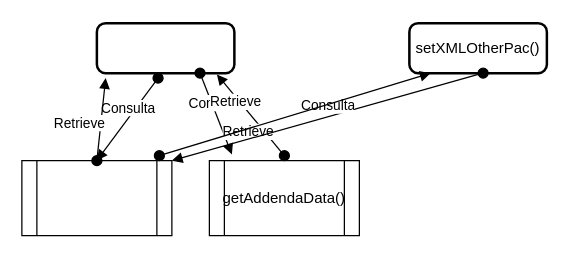
The diagram is 570 pixels wide and 258 high, and some of its shapes have lost their labels. The shapes that lost their labels are listed below. From the top down, each one's centre as x and y in pixels, then its label:
the point at 165,47: setXMLJonima()
the point at 96,197: getInvoiceData()
